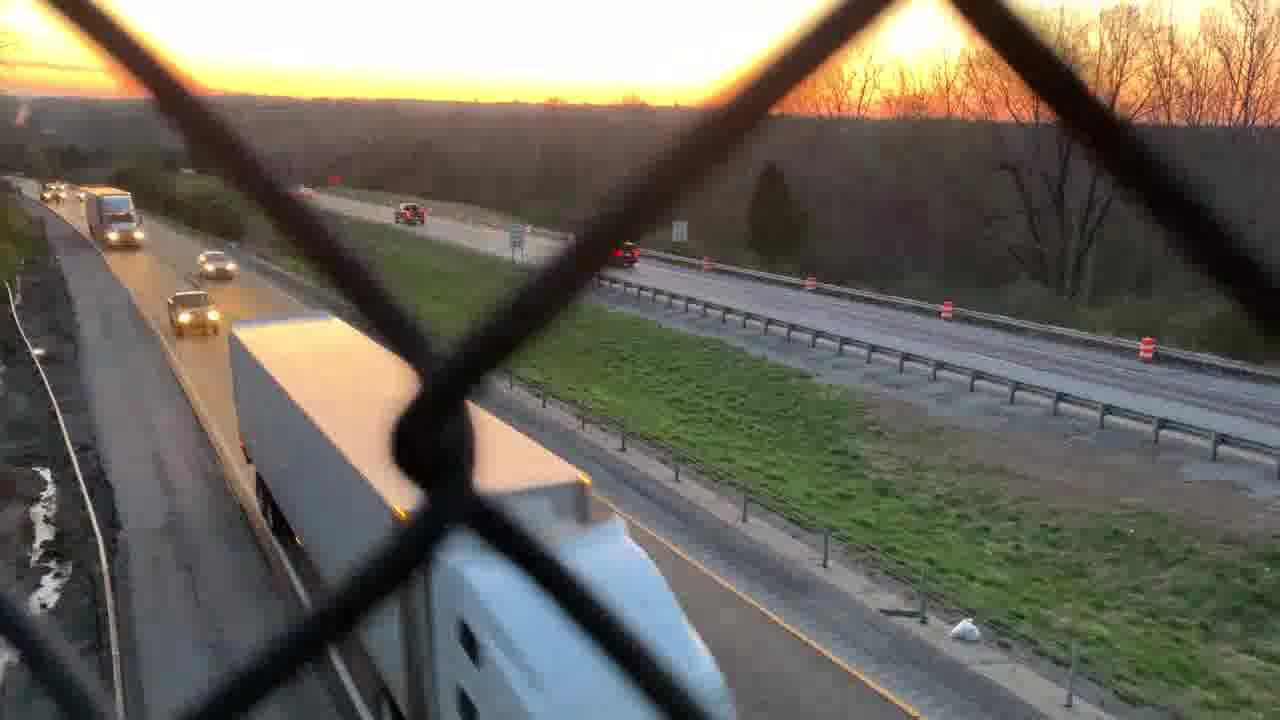heavyTruck: (219, 311, 741, 720), (78, 181, 145, 254)
lightTruck: (166, 289, 221, 335), (392, 194, 430, 228)
smallCar: (190, 244, 247, 282)
